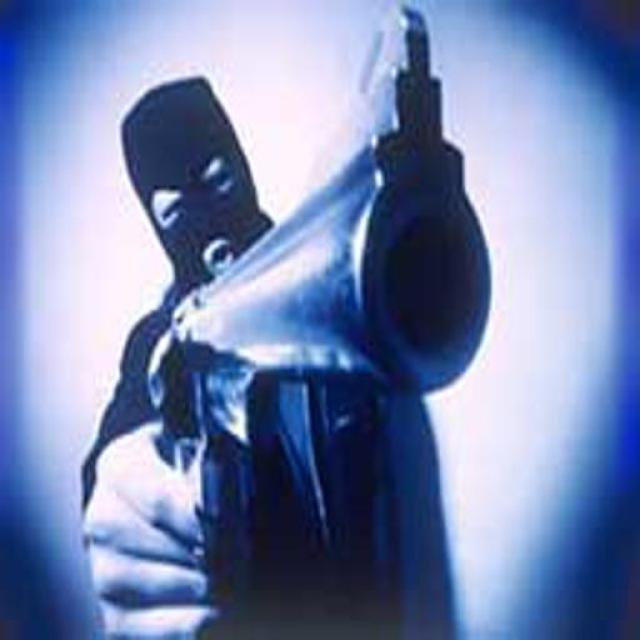pistol: (145, 4, 496, 613)
